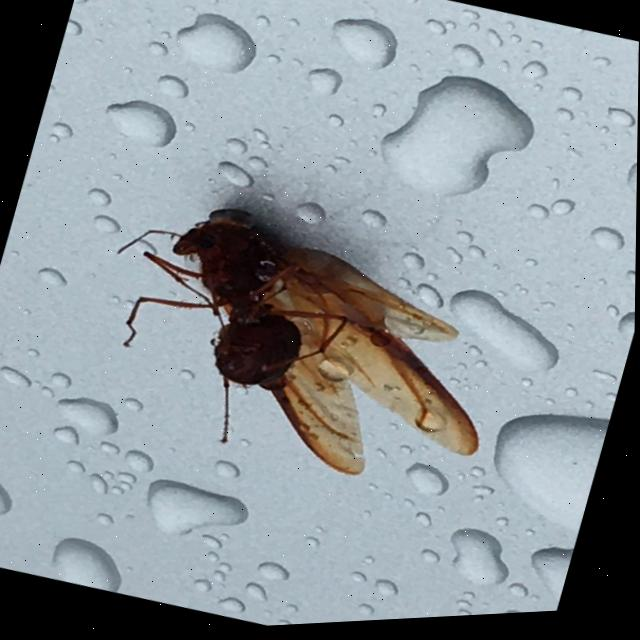Dead-Female-Alate: (70, 171, 530, 521)
